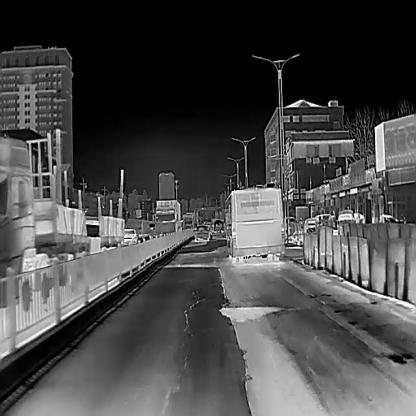bus: (226, 187, 284, 263)
car: (120, 228, 137, 245), (194, 225, 210, 241), (337, 207, 355, 221), (316, 213, 332, 226)
truck: (0, 136, 88, 309), (154, 198, 180, 236), (182, 212, 194, 228)
